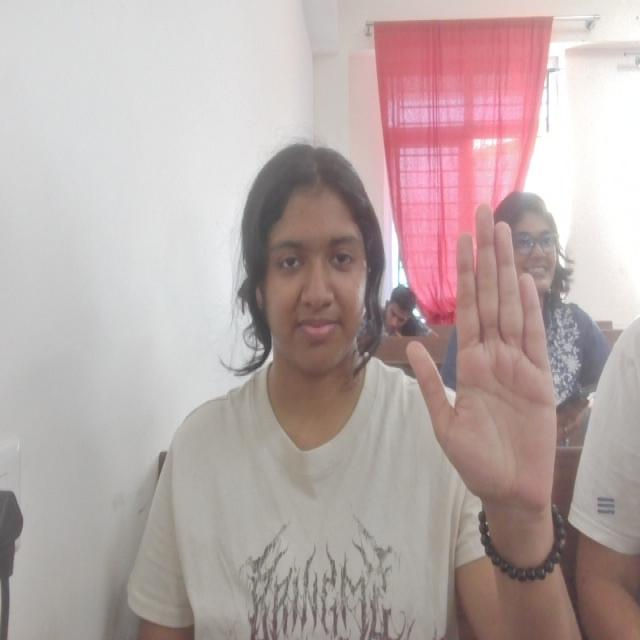hello: (405, 204, 561, 524)
